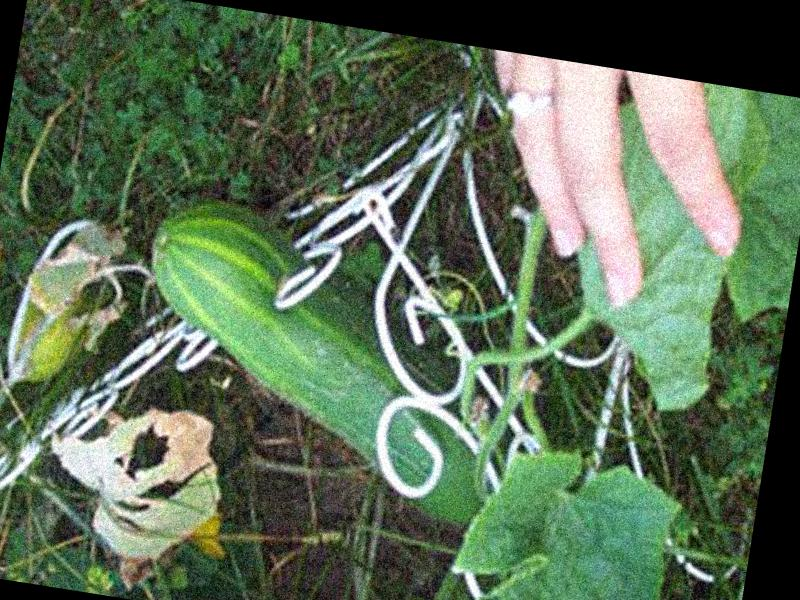Cucumber: (117, 193, 527, 530)
